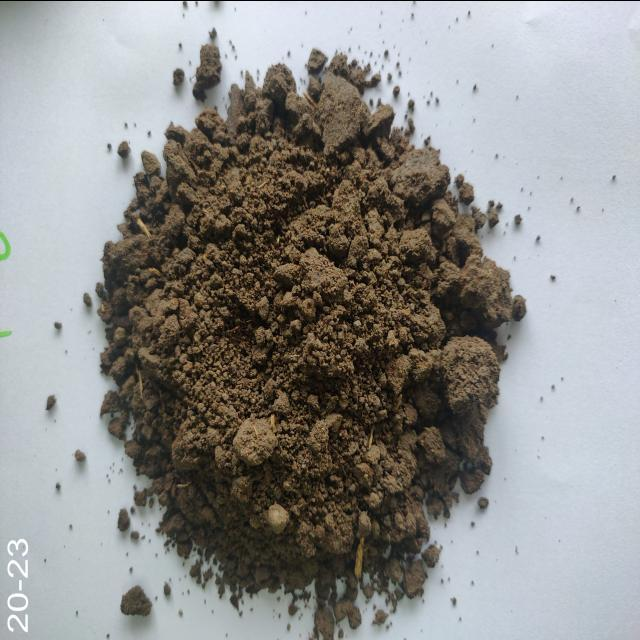soil: (158, 176, 428, 478)
